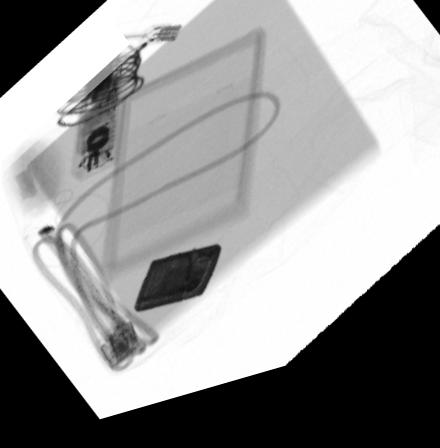Lighter: (133, 254, 223, 319)
